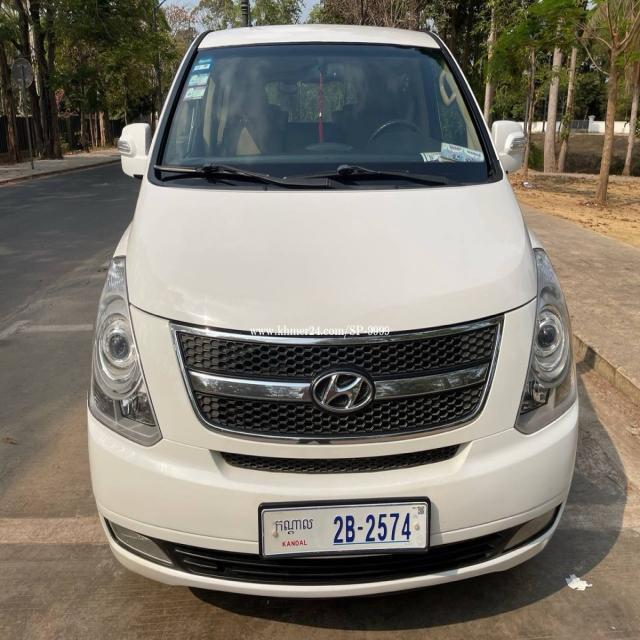Kandal: (274, 517, 316, 536)
